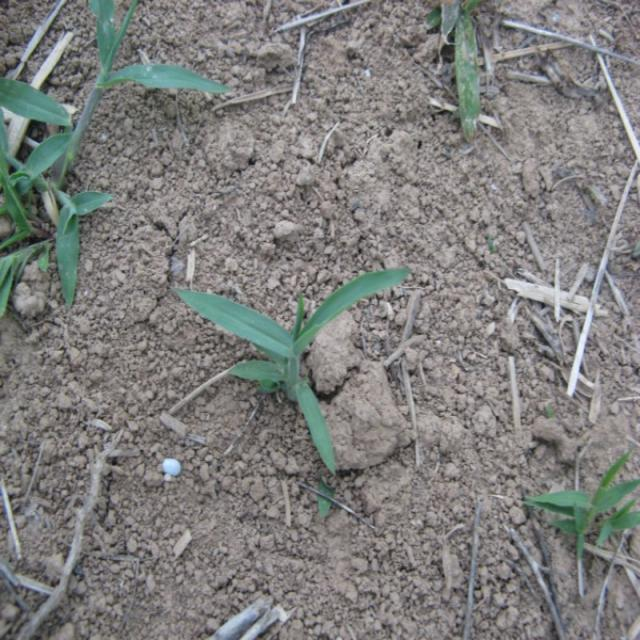bg: (175, 266, 418, 474)
